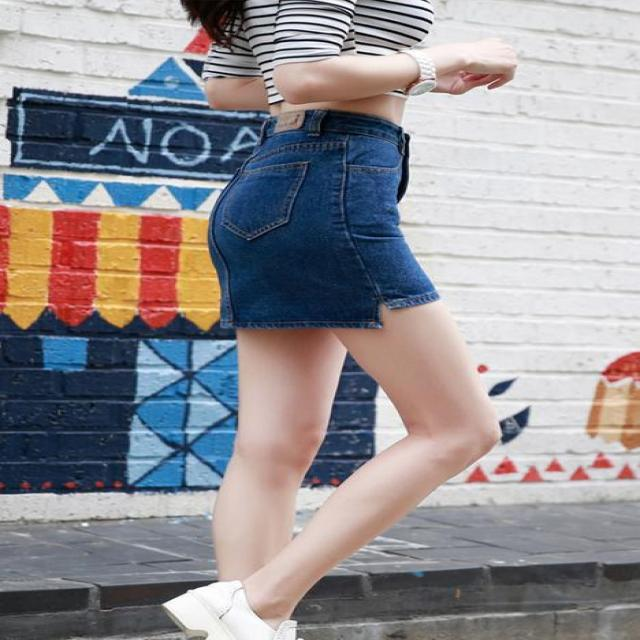skirt: (208, 112, 439, 326)
